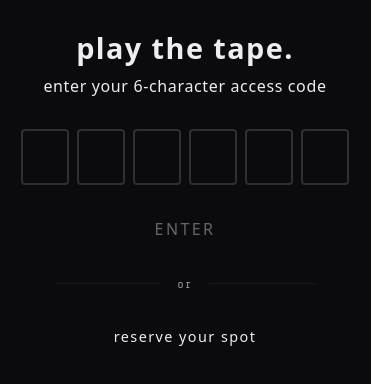
it: AccessCodeEntry › shows generic error on firebase failure
The image size is (371, 384).
Type "A" into the field named "Character 1" at {"x": 45, "y": 156}, box [21,128,69,184]
Type "B" into the field named "Character 2" at {"x": 101, "y": 156}, box [77,128,125,184]
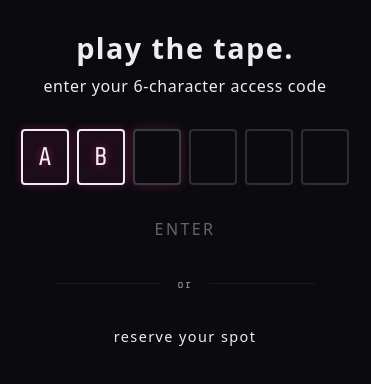
Type "C" into the field named "Character 3" at {"x": 157, "y": 156}, box [133,128,181,184]
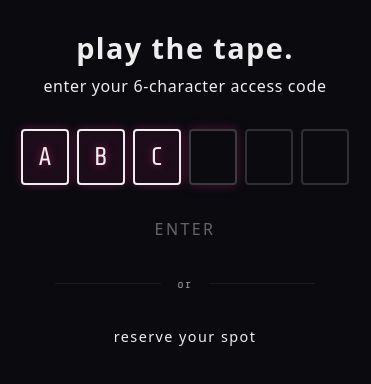
Type "1" into the field named "Character 4" at {"x": 213, "y": 156}, box [189,128,237,184]
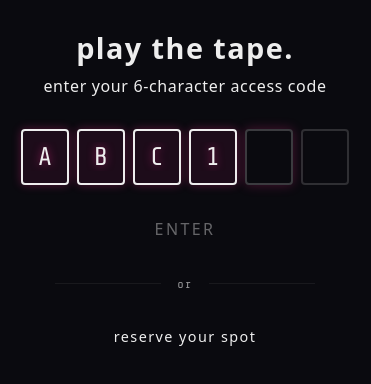
Type "2" into the field named "Character 5" at {"x": 269, "y": 156}, box [245,128,293,184]
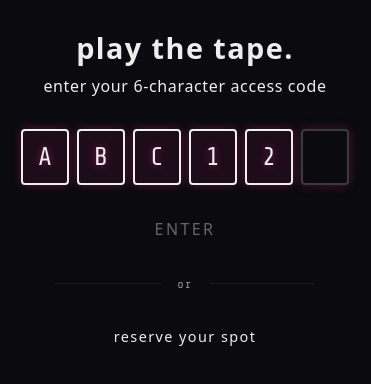
Type "3" into the field named "Character 6" at {"x": 325, "y": 156}, box [301,128,349,184]
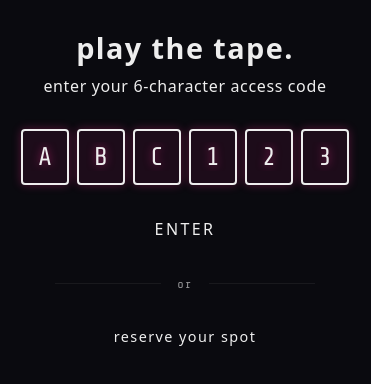
Click the button "ENTER" at {"x": 185, "y": 228}, box [115,204,255,252]
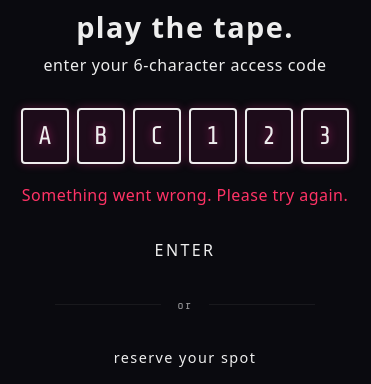
Check: the text "Something went wrong. Please try again." is shown, box [22,184,348,206]
